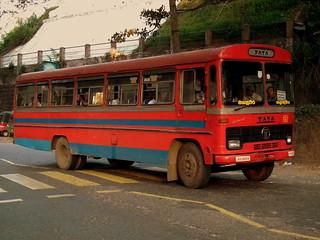bus: (12, 44, 298, 191)
